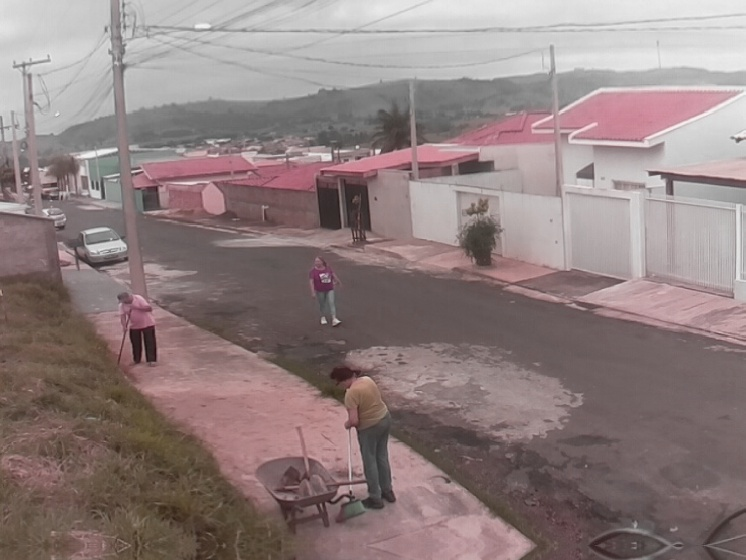person: (329, 366, 399, 512), (114, 291, 163, 368), (306, 255, 348, 329)
